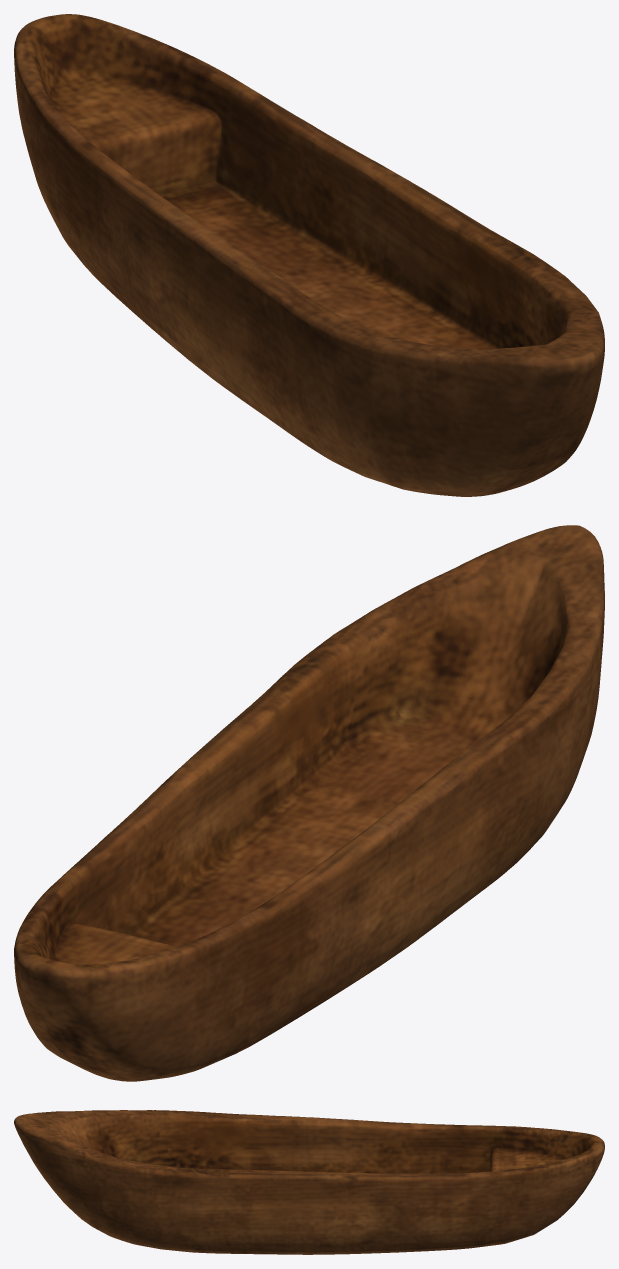
The model's file is dense-normalized.glb.
3 renders of one model, top to bottom at view 1: azimuth 30°, elevation 25°; view 2: azimuth 150°, elevation 25°; view 3: azimuth 270°, elevation 25°, orthographic. The views are drawn at different scales.
Parts seen in each view (by area): view 1: Mesh_0; view 2: Mesh_0; view 3: Mesh_0.
Boxes of the visible parts, bbox=[...] form: Mesh_0: bbox=[14, 14, 604, 496]; Mesh_0: bbox=[14, 525, 604, 1081]; Mesh_0: bbox=[14, 1110, 604, 1254].
Bounding box in the file's own units: 0.997 × 0.9068 × 3.8.
Materials: 1 (1 with a texture image).
